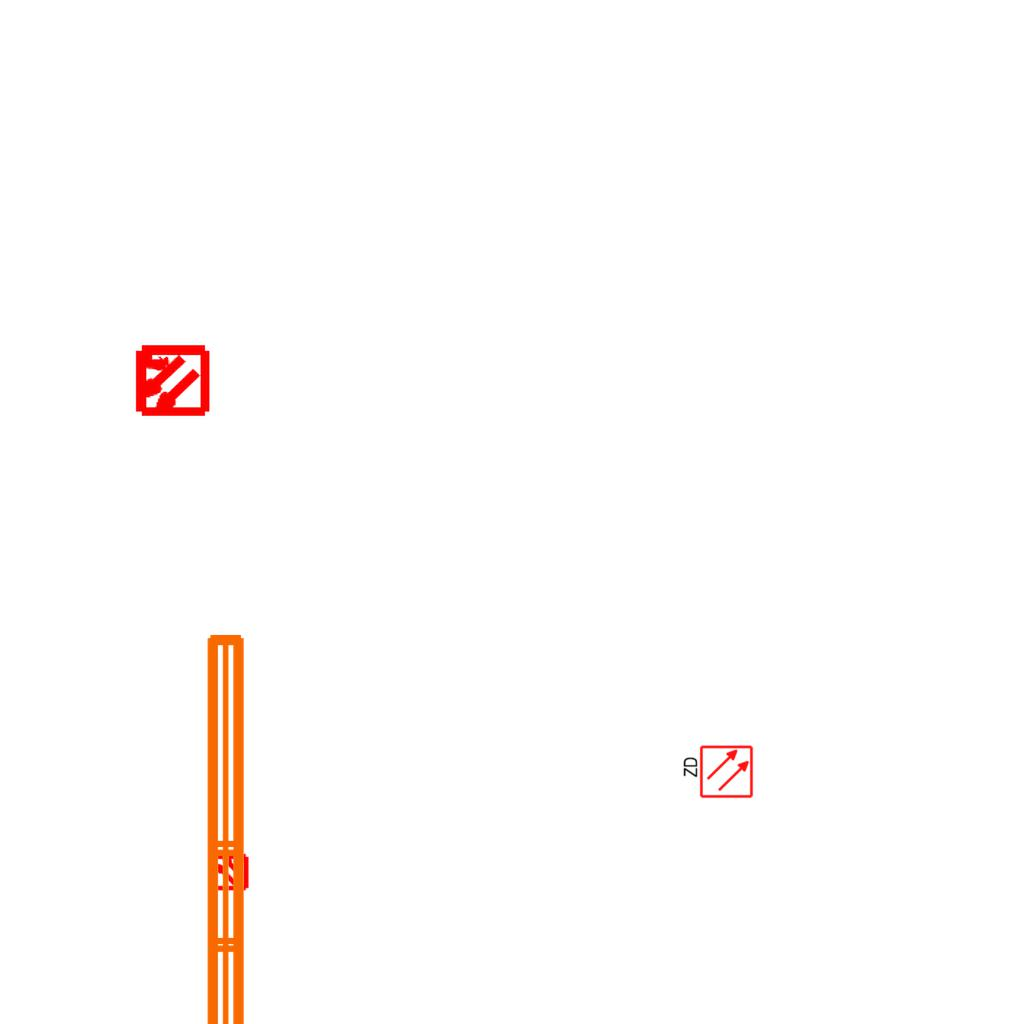Ambulanz_Pendelleuchte_LED: (195, 624, 307, 1024)
OT_Multisensormelder_(Kombination_RMO_WMD): (114, 324, 227, 437), (203, 843, 259, 899)
ZD_Melder_in_Zwischendecke_mit_Revisionsoeffnung_mind_40_x_40_cm: (680, 744, 754, 801)
